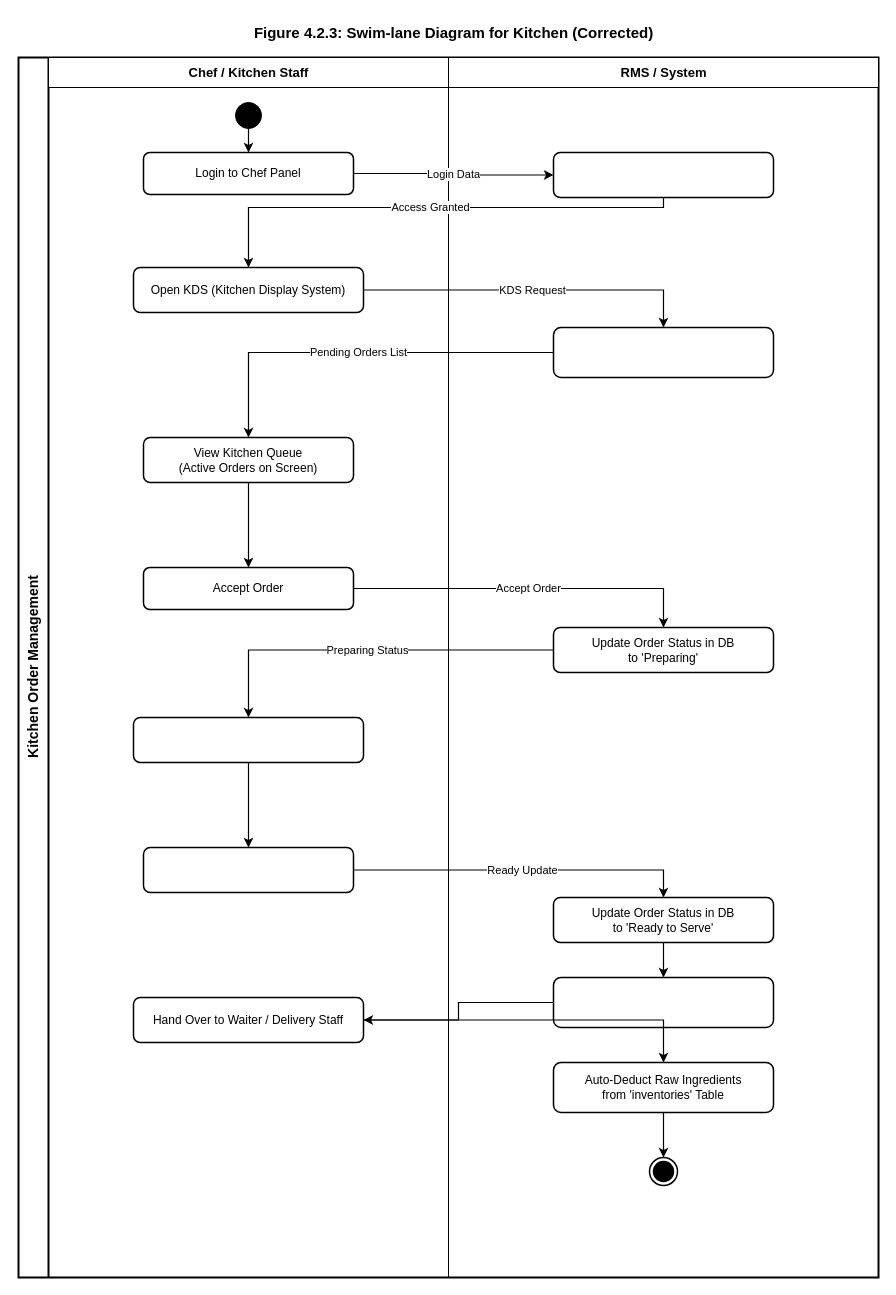
This 896x1295 diagram has some shape labels left out. Here are the shapes that lost their labels. From the top down, the centre of each, then its label:
At pixel 663 174: "Authenticate Chef Credentials & Verify Kitchen Role".
At pixel 663 352: "Fetch Pending & Preparing Orders from 'orders' DB Table".
At pixel 248 739: "Prepare Food According to Recipe".
At pixel 248 869: "Mark Order Ready".
At pixel 663 1002: "Push Audio / Status Alert to Floor Waiters & Customer App".
